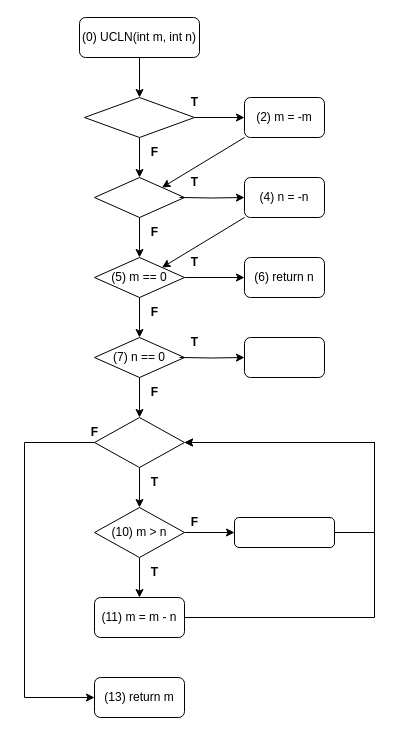
Image size: 400x735. Some labels were removed from this diagram. The box of each missing label's shape, as (x1, y1, x2, y2) in pixels:
(1) m < 0: (84, 96, 194, 138)
(12) n = n - m: (234, 516, 334, 548)
(3) n < 0: (94, 176, 184, 218)
(8) return m: (244, 336, 324, 378)
(9) m != n: (94, 416, 184, 468)
